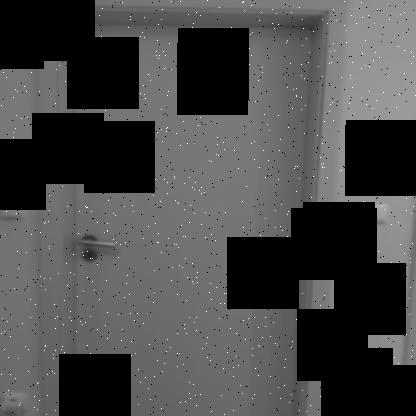Porte: (35, 0, 352, 415)
